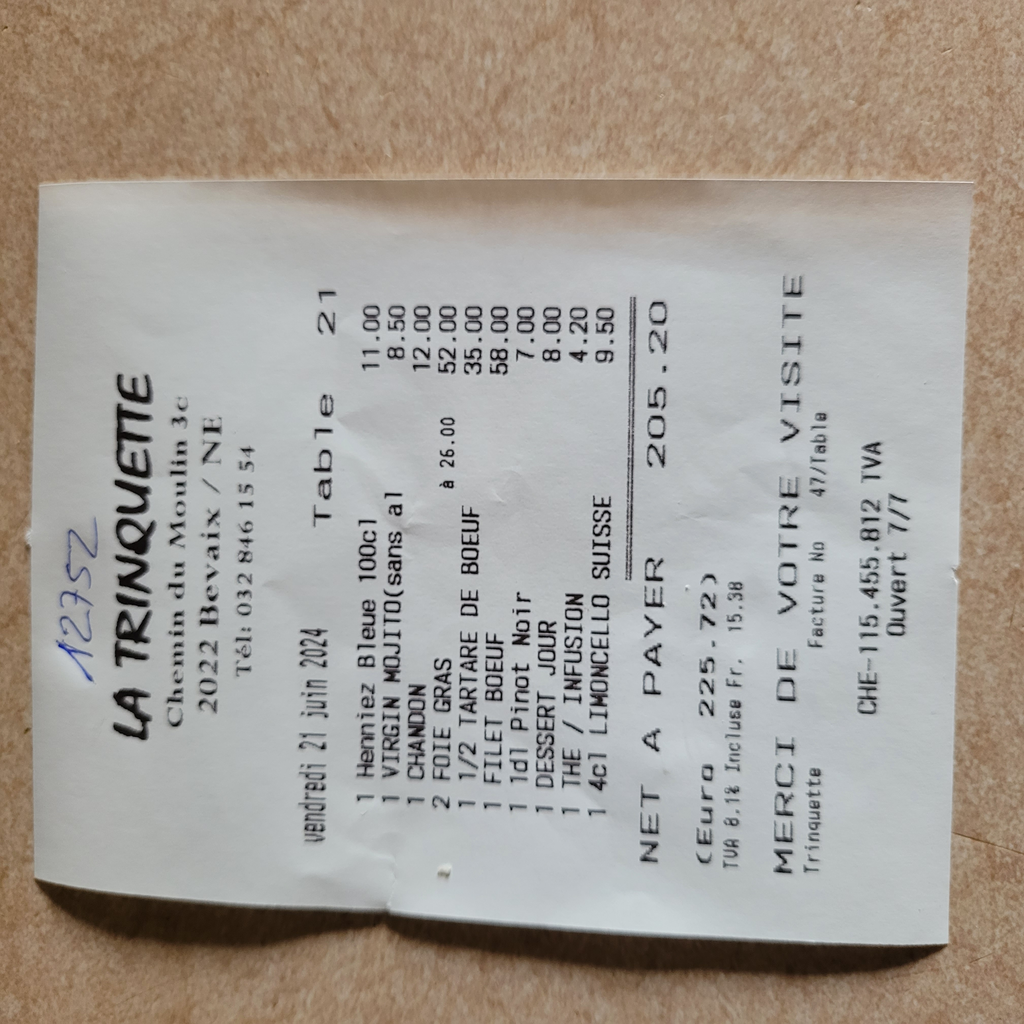recipt: (48, 183, 995, 959)
